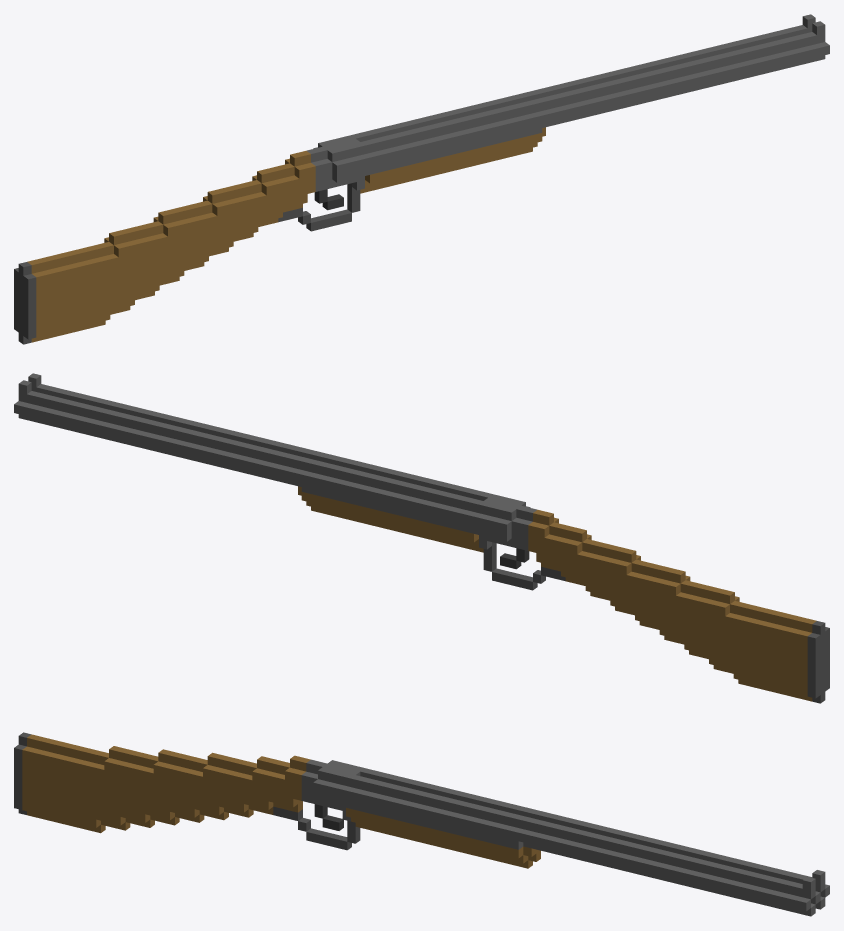
File: Doom_DoubleBarrelShotgun.obj
The picture shows the model from 3 angles, top to bottom: view 1: azimuth 30°, elevation 25°; view 2: azimuth 150°, elevation 25°; view 3: azimuth 330°, elevation 25°; orthographic projection.
Size of the model in its own units: 9.7 by 1.5 by 0.5.
1 material, 1 textured.
